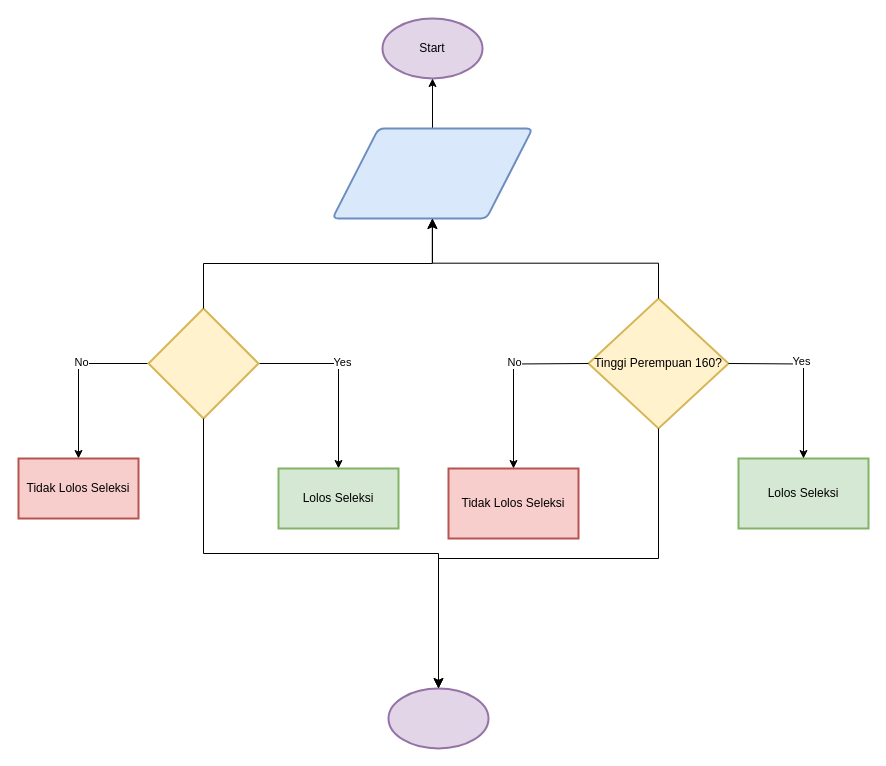
This 886x766 diagram has some shape labels left out. Here are the shapes that lost their labels. From the top down, the centre of each, then its label:
pixel 432 173: Masukan Nama Masukan Jenis Kelamin masukan Tinggi Badan
pixel 203 363: Tinggi Laki-laki 170cm?
pixel 438 718: End
